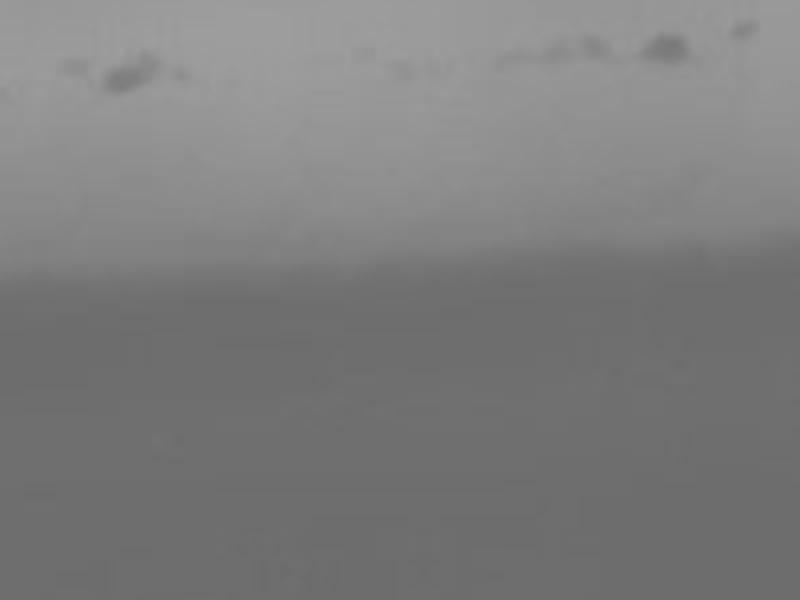defect: (102, 51, 157, 90), (633, 32, 692, 67), (575, 22, 615, 62), (488, 40, 533, 69), (535, 34, 570, 70), (723, 14, 758, 38), (389, 57, 417, 80), (350, 37, 377, 58), (58, 52, 85, 71), (168, 61, 188, 85)
